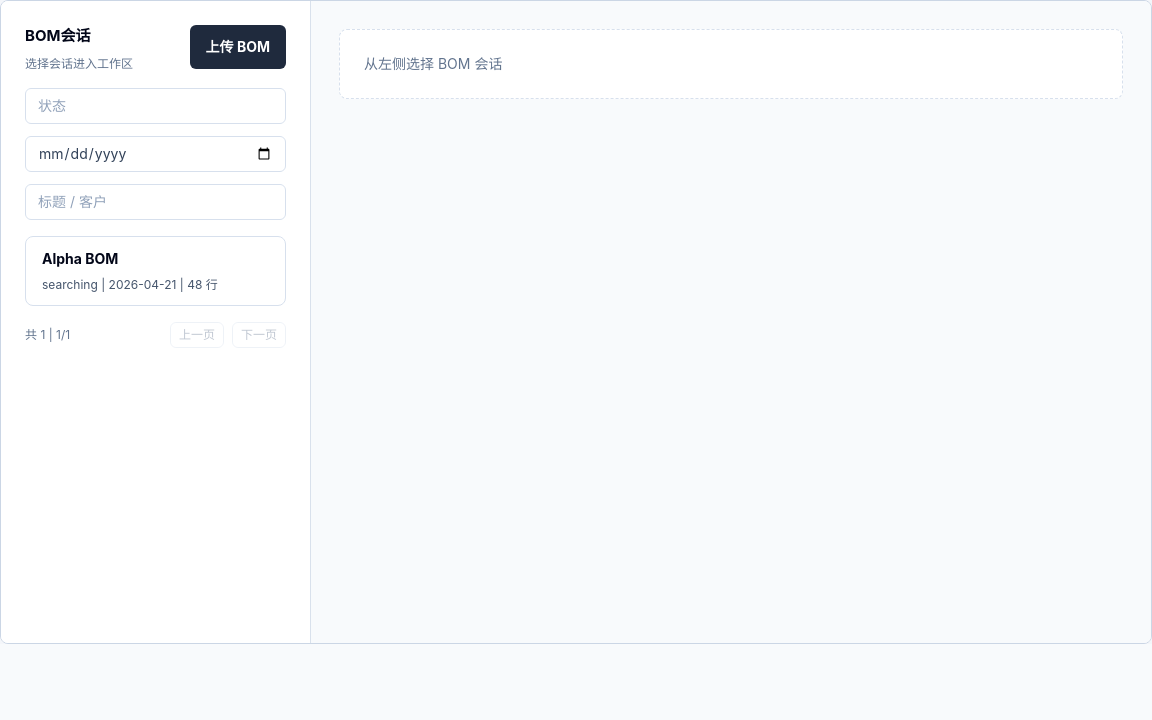
it: BomWorkbenchPage › opens the maintenance workspace without rendering the full session detail page
The image size is (1152, 720).
Click the button "Alpha BOM searching | 2026-04-21 | 48 行" at (80, 258), box [25,236,286,306]
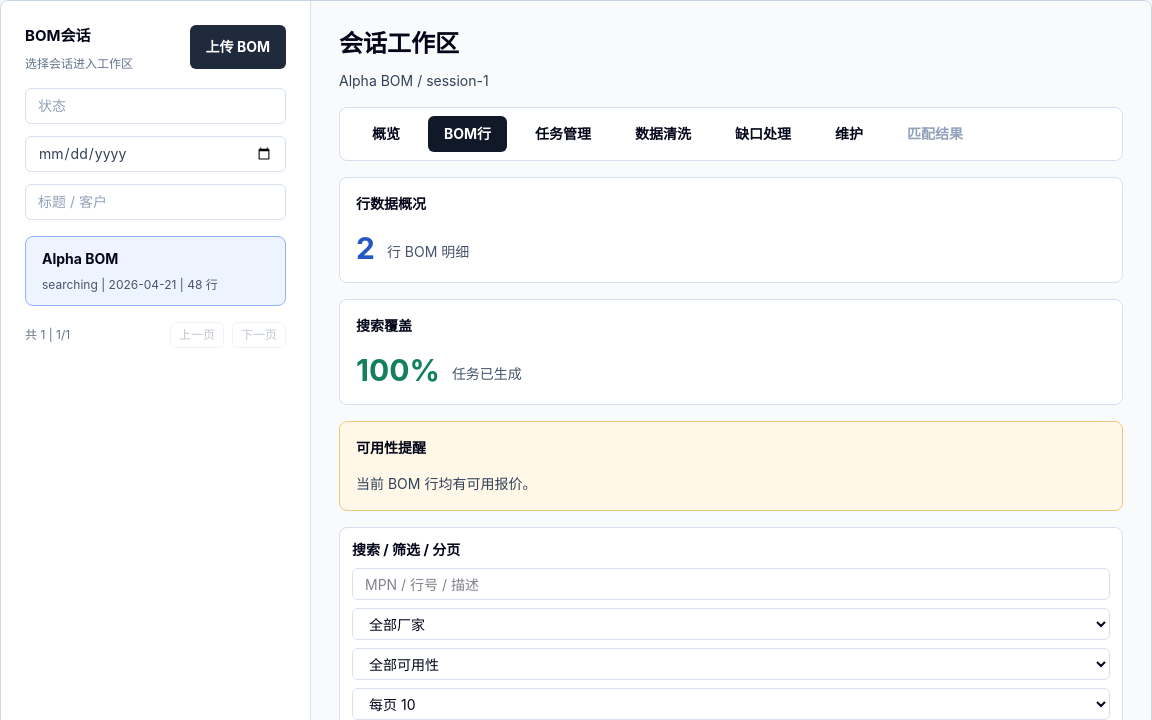
Click the tab "维护" at (849, 134), box [819,116,879,152]
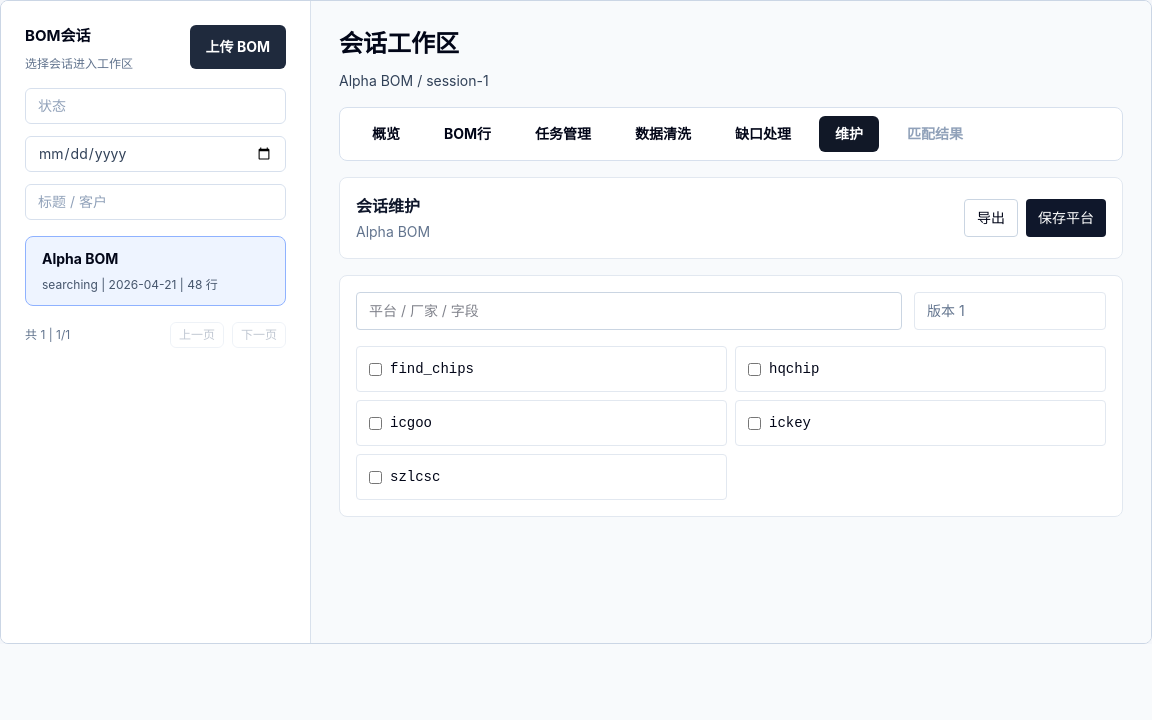
Result: the element with test id "session-maintenance-panel" is shown at [339,177,1123,517]
Result: the heading "会话维护" is shown at [356,194,430,218]
